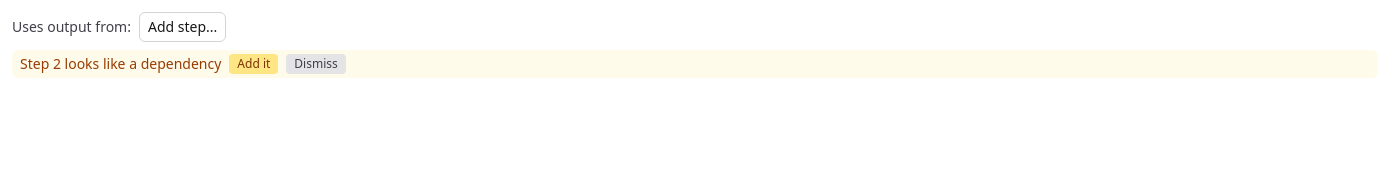
Test: StepDependencySelector › AI suggestions › dismiss button removes AI suggestion
# Click the dismiss button
What coordinates should you click on to do the following:
click the button "Dismiss"
I would click on:
 (316, 64)
Its box is 286,54 -> 346,74.
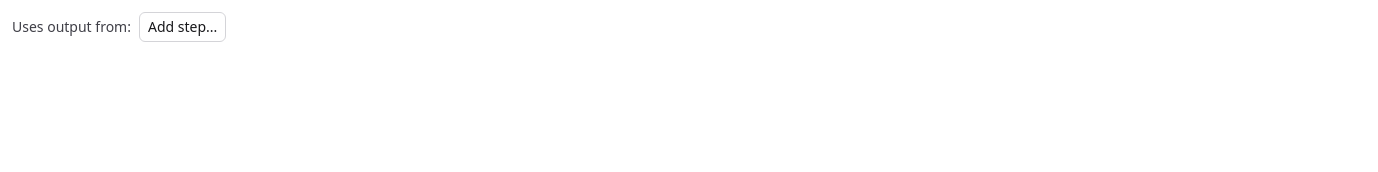
Check: the text "Step 2 looks like a dependency" is gone
